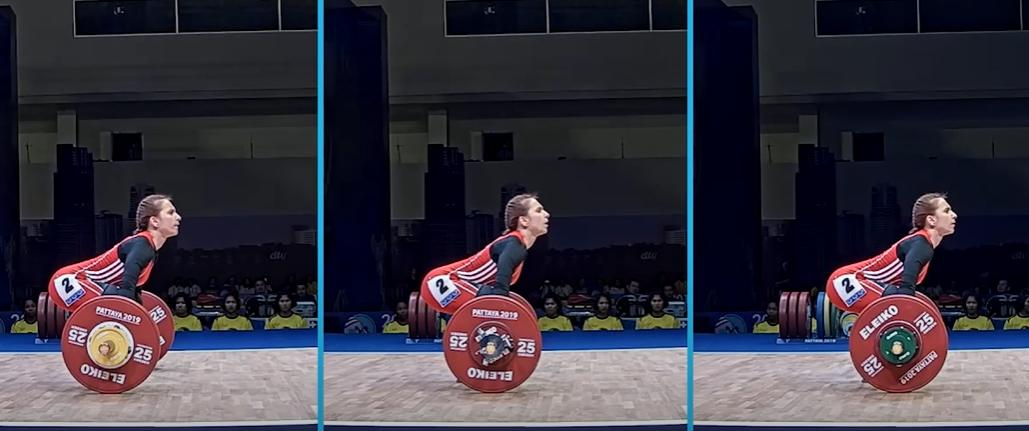Barbell: (83, 320, 142, 371), (877, 321, 928, 379), (469, 318, 515, 371)
